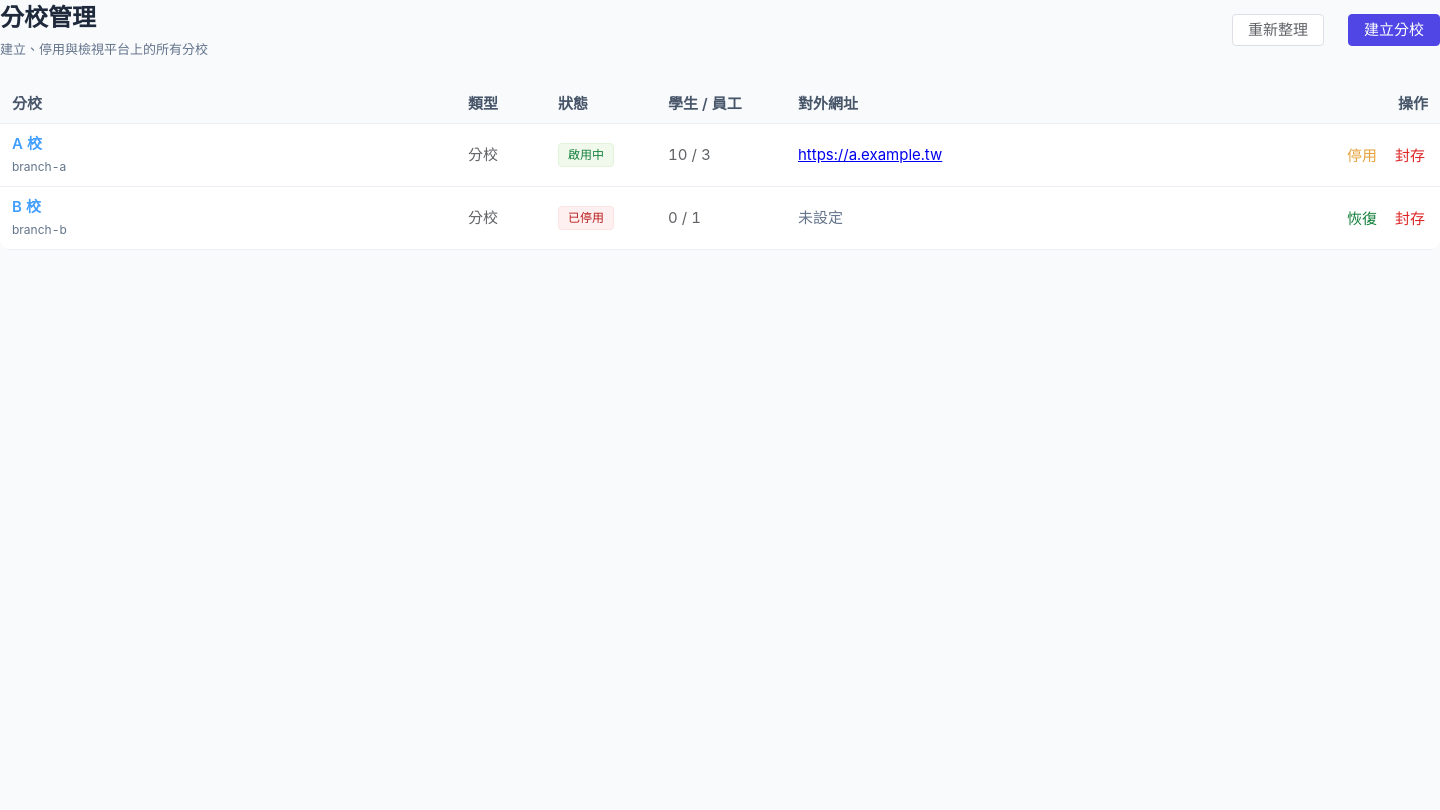
Test: PlatformTenantsView › dry-run 回 blockers → 顯示阻礙原因且仍不可建立
Click the button with test id "open-create" at (1394, 30), box [1348, 14, 1439, 46]
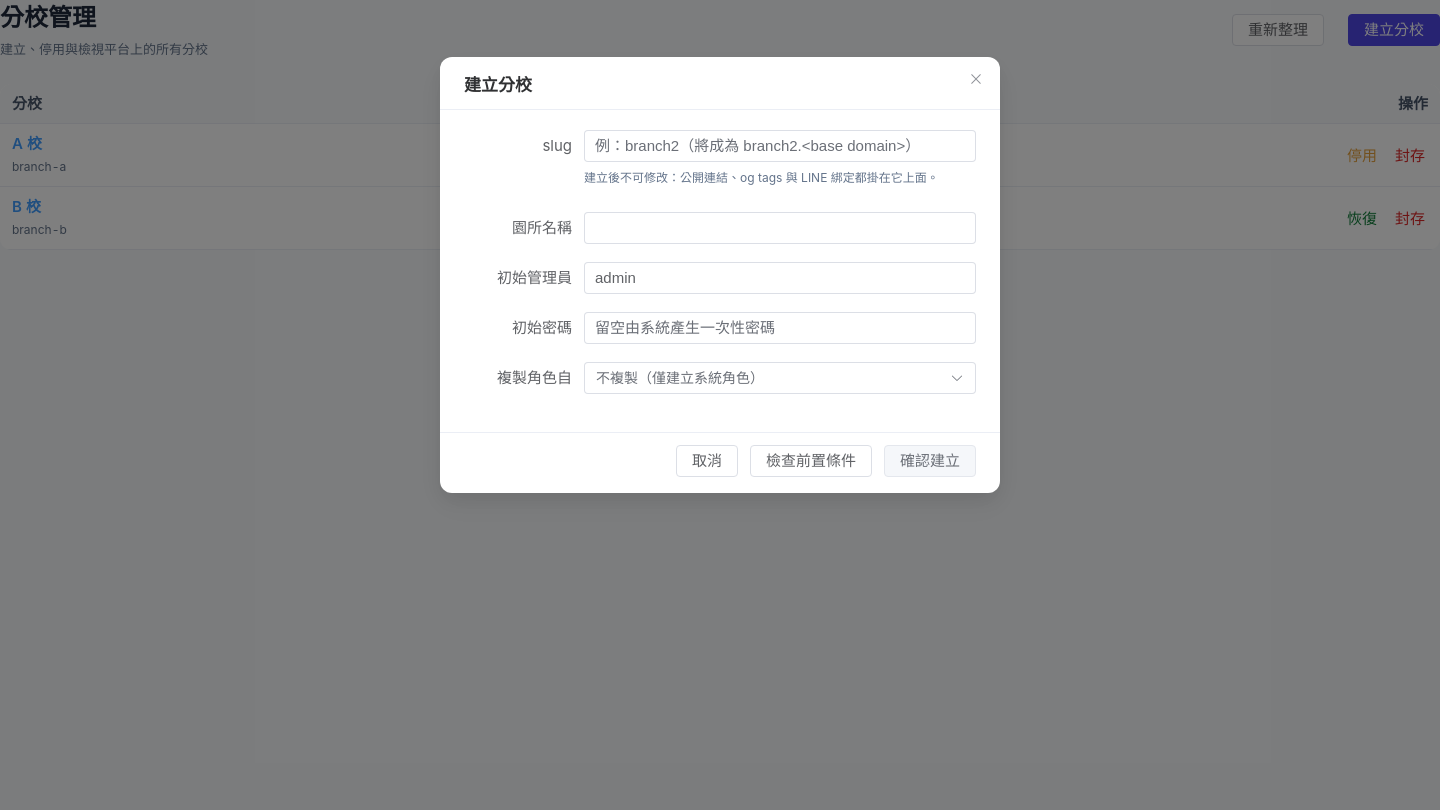
Type "branch-c" into the field with test id "create-slug" at (780, 146), box [595, 131, 965, 161]
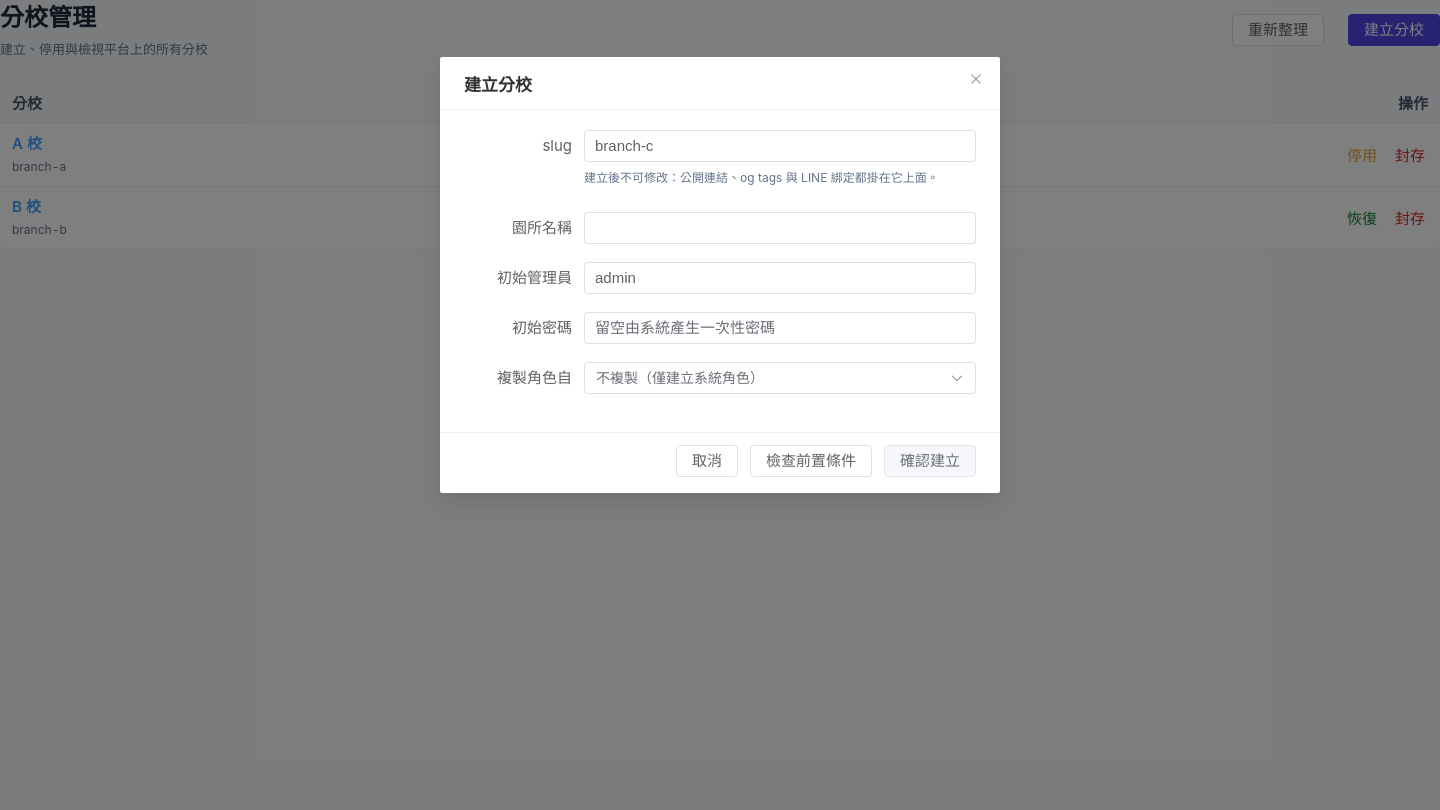
Type "C 校" into the field with test id "create-name" at (780, 228), box [595, 213, 965, 243]
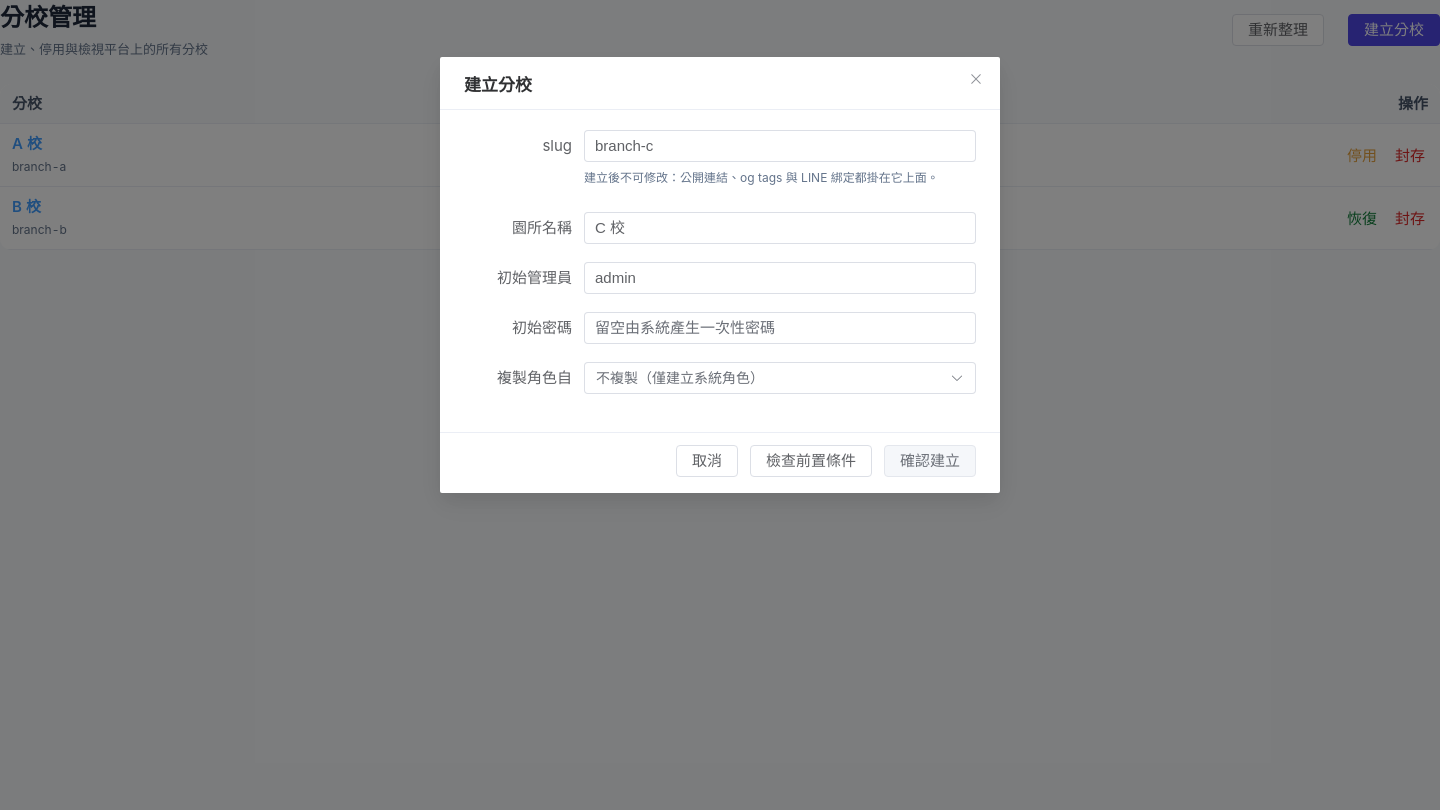
Click the button with test id "create-dryrun" at (811, 461), box [750, 445, 872, 477]
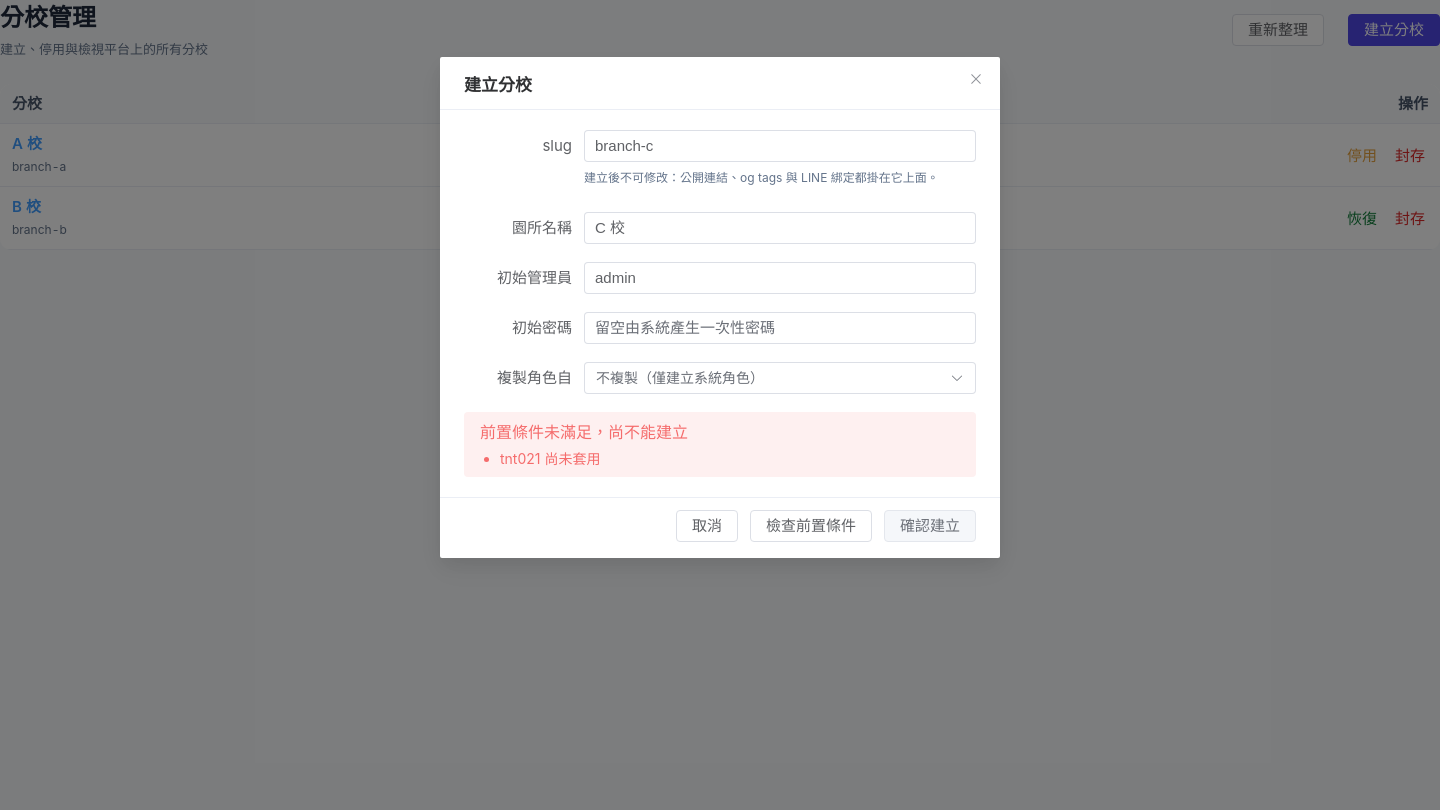
Check: the button with test id "create-submit" is disabled, box [884, 510, 976, 542]
Check: the element with test id "create-blockers" shows "tnt021 尚未套用", box [500, 450, 600, 467]
